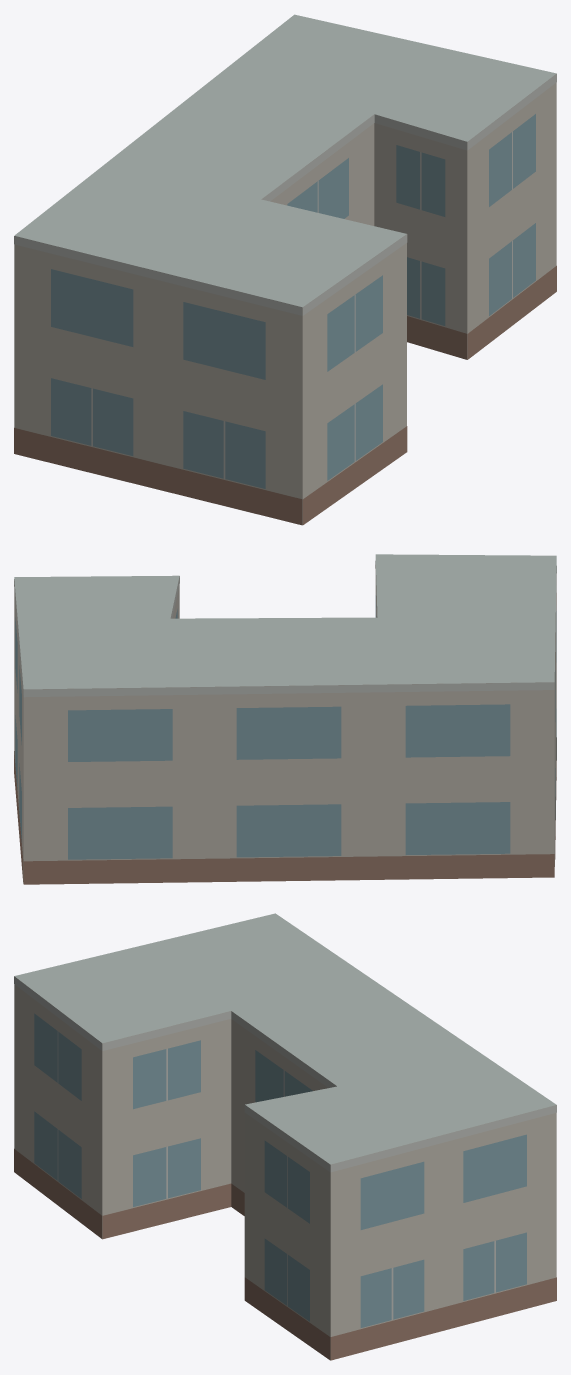
Rendered from survey-upis-32768166.glb.
3 views of the same model, one above another, from view 1: azimuth 30°, elevation 25°; view 2: azimuth 150°, elevation 25°; view 3: azimuth 270°, elevation 25° (orthographic). The views are drawn at different scales.
Visible parts, largest first — view 1: survey-upis-32768166.tmp; view 2: survey-upis-32768166.tmp; view 3: survey-upis-32768166.tmp.
Boxes of the visible parts, x1,y1,x2,y2 form: survey-upis-32768166.tmp: (14, 14, 556, 525); survey-upis-32768166.tmp: (14, 554, 556, 884); survey-upis-32768166.tmp: (14, 913, 556, 1360).
Bounding box in the file's own units: 16.79 × 6.1 × 15.32.
